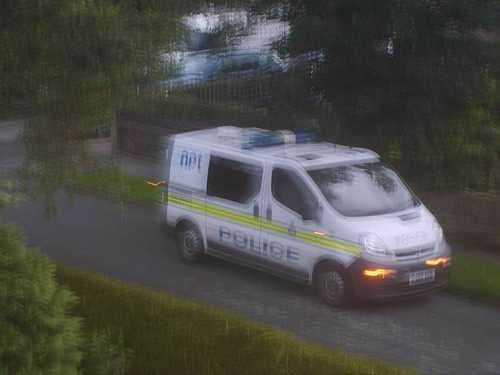Ambulance: (157, 102, 455, 303)
